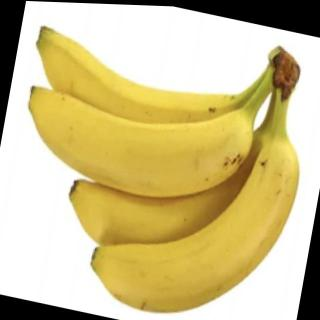banana: (82, 99, 306, 320), (58, 88, 283, 286), (13, 62, 260, 218), (22, 20, 248, 157)
